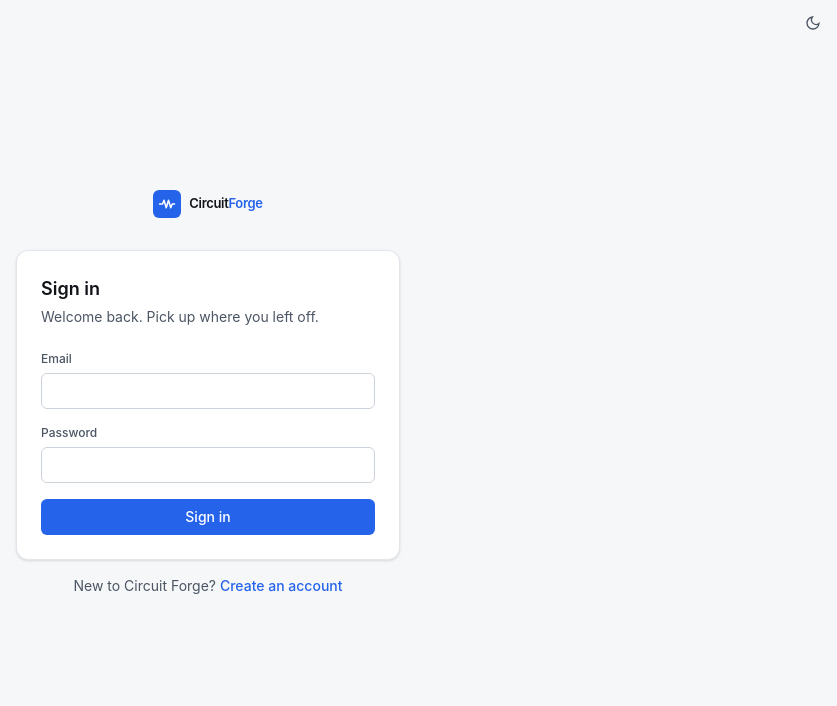
Test: sign in and sign up › says plainly when the credentials are wrong, and when the account already exists
Type "ada@example.com" into the field labelled "Email".
click(208, 391); type("ada@example.com")  # box [41, 373, 375, 409]
Type "wrong" into the password field labelled "Password".
click(208, 465); type("wrong")  # box [41, 447, 375, 483]
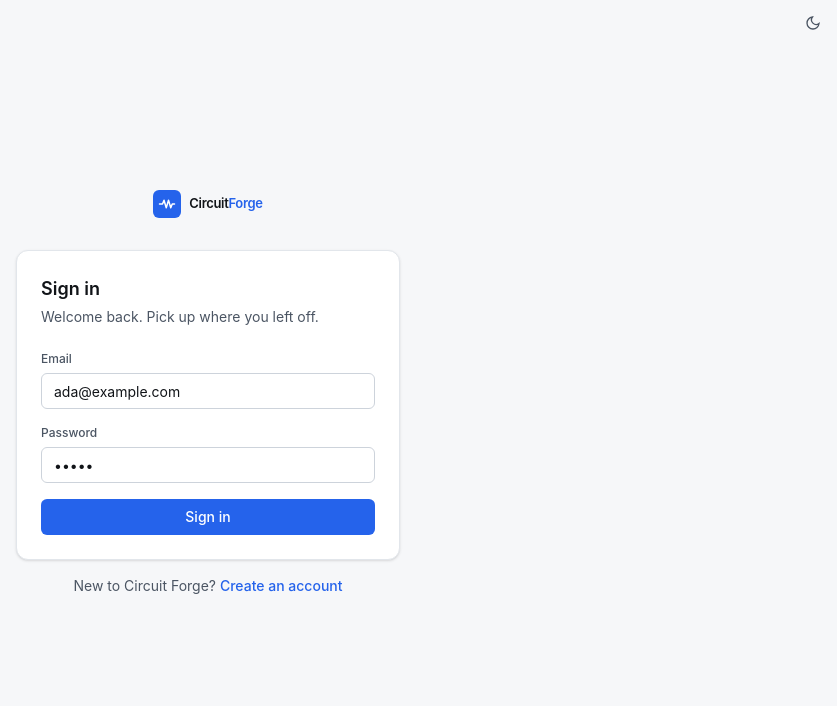
Click the button "Sign in".
click(208, 517)  # box [41, 499, 375, 535]
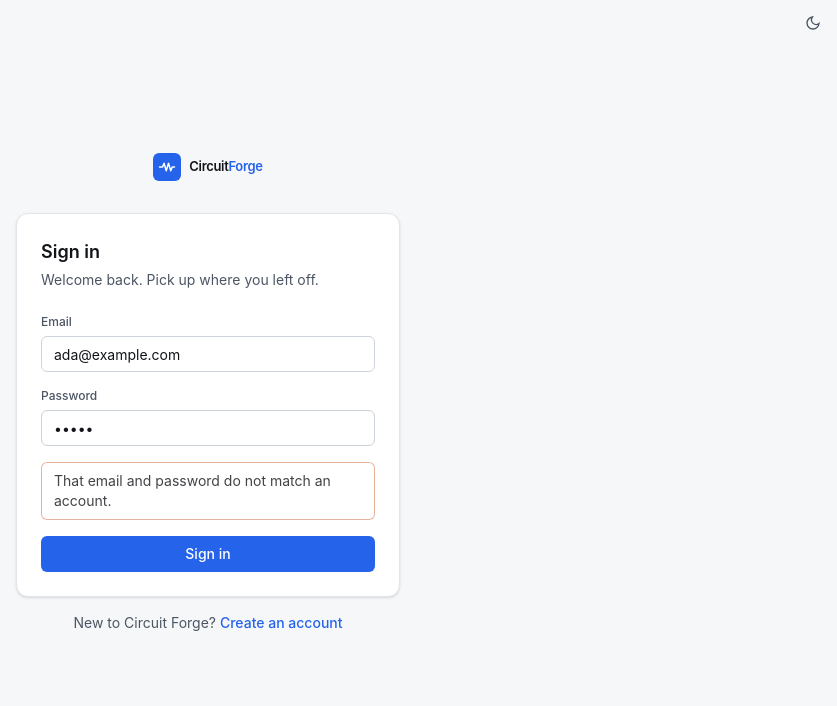
Check: the message shows "do not match an account", box [54, 472, 331, 509]
Click the button "Create an account".
click(281, 623)  # box [220, 613, 342, 633]
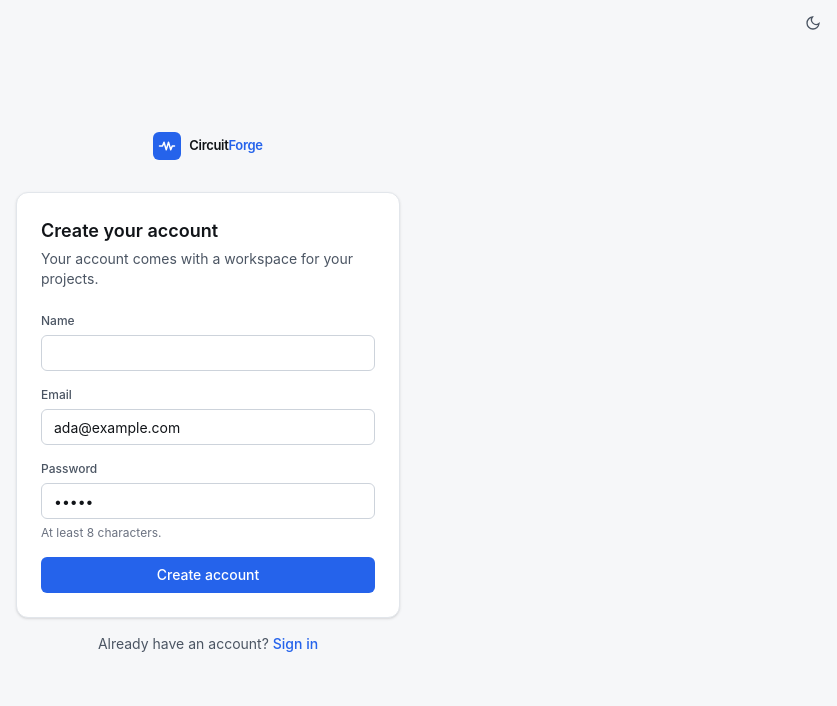
Type "Ada" into the field labelled "Name".
click(208, 353); type("Ada")  # box [41, 335, 375, 371]
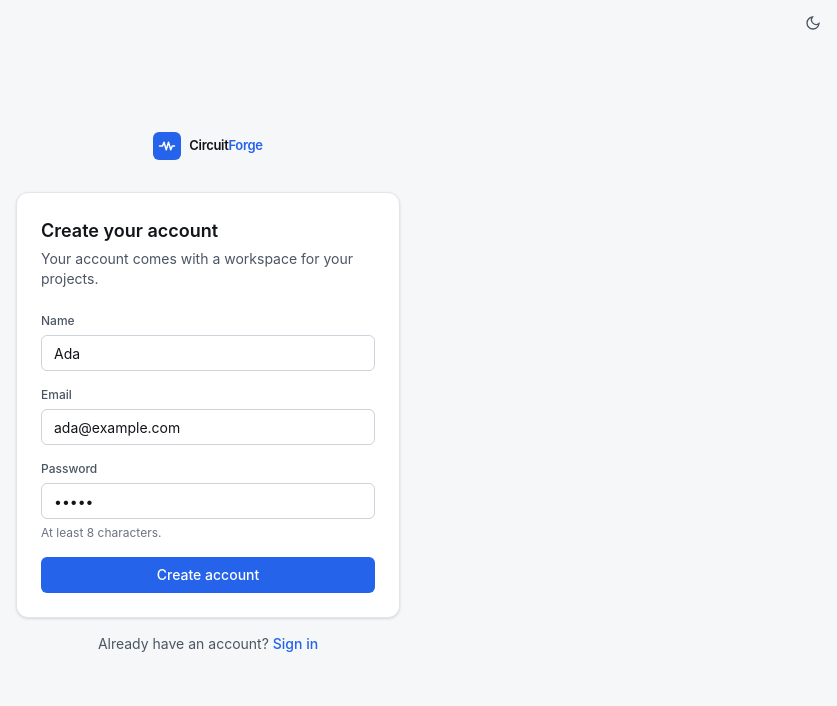
Type "correct horse" into the password field labelled "Password".
click(208, 501); type("correct horse")  # box [41, 483, 375, 519]
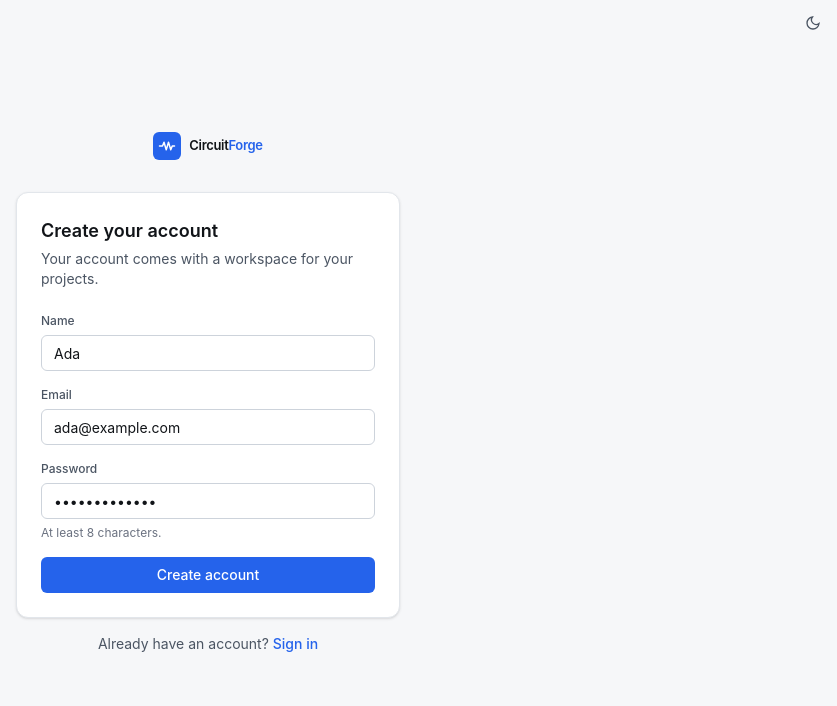
Click the button "Create account".
click(208, 575)  # box [41, 557, 375, 593]
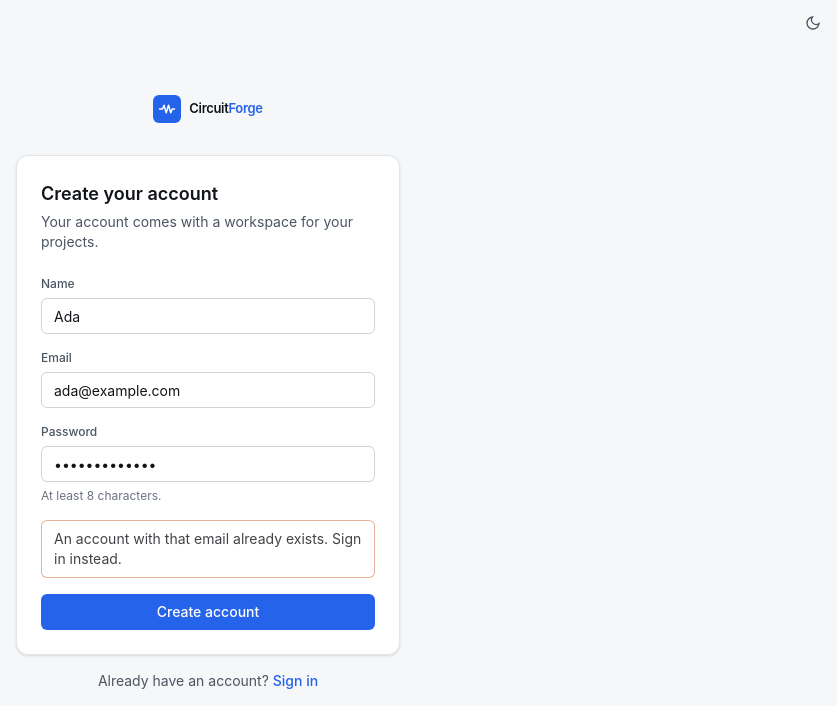
Check: the message shows "already exists", box [54, 530, 361, 567]
